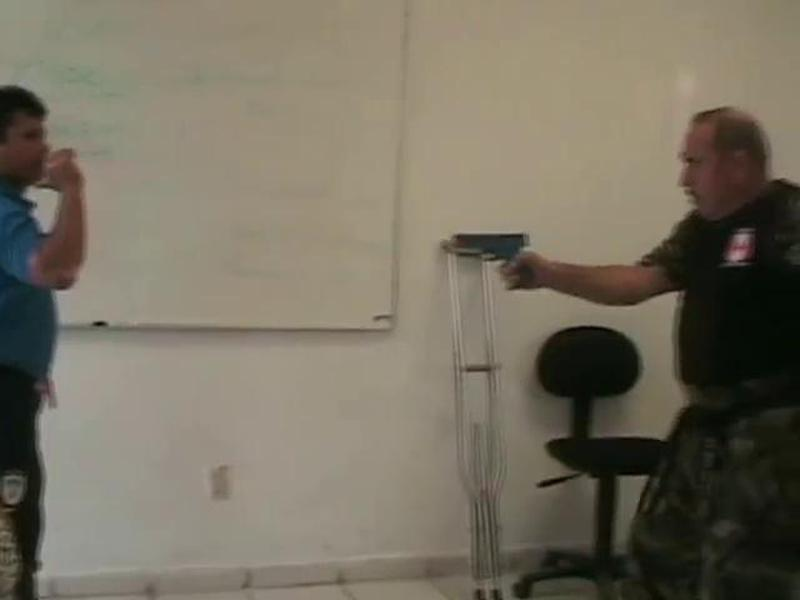Pistola: (450, 217, 557, 304)
